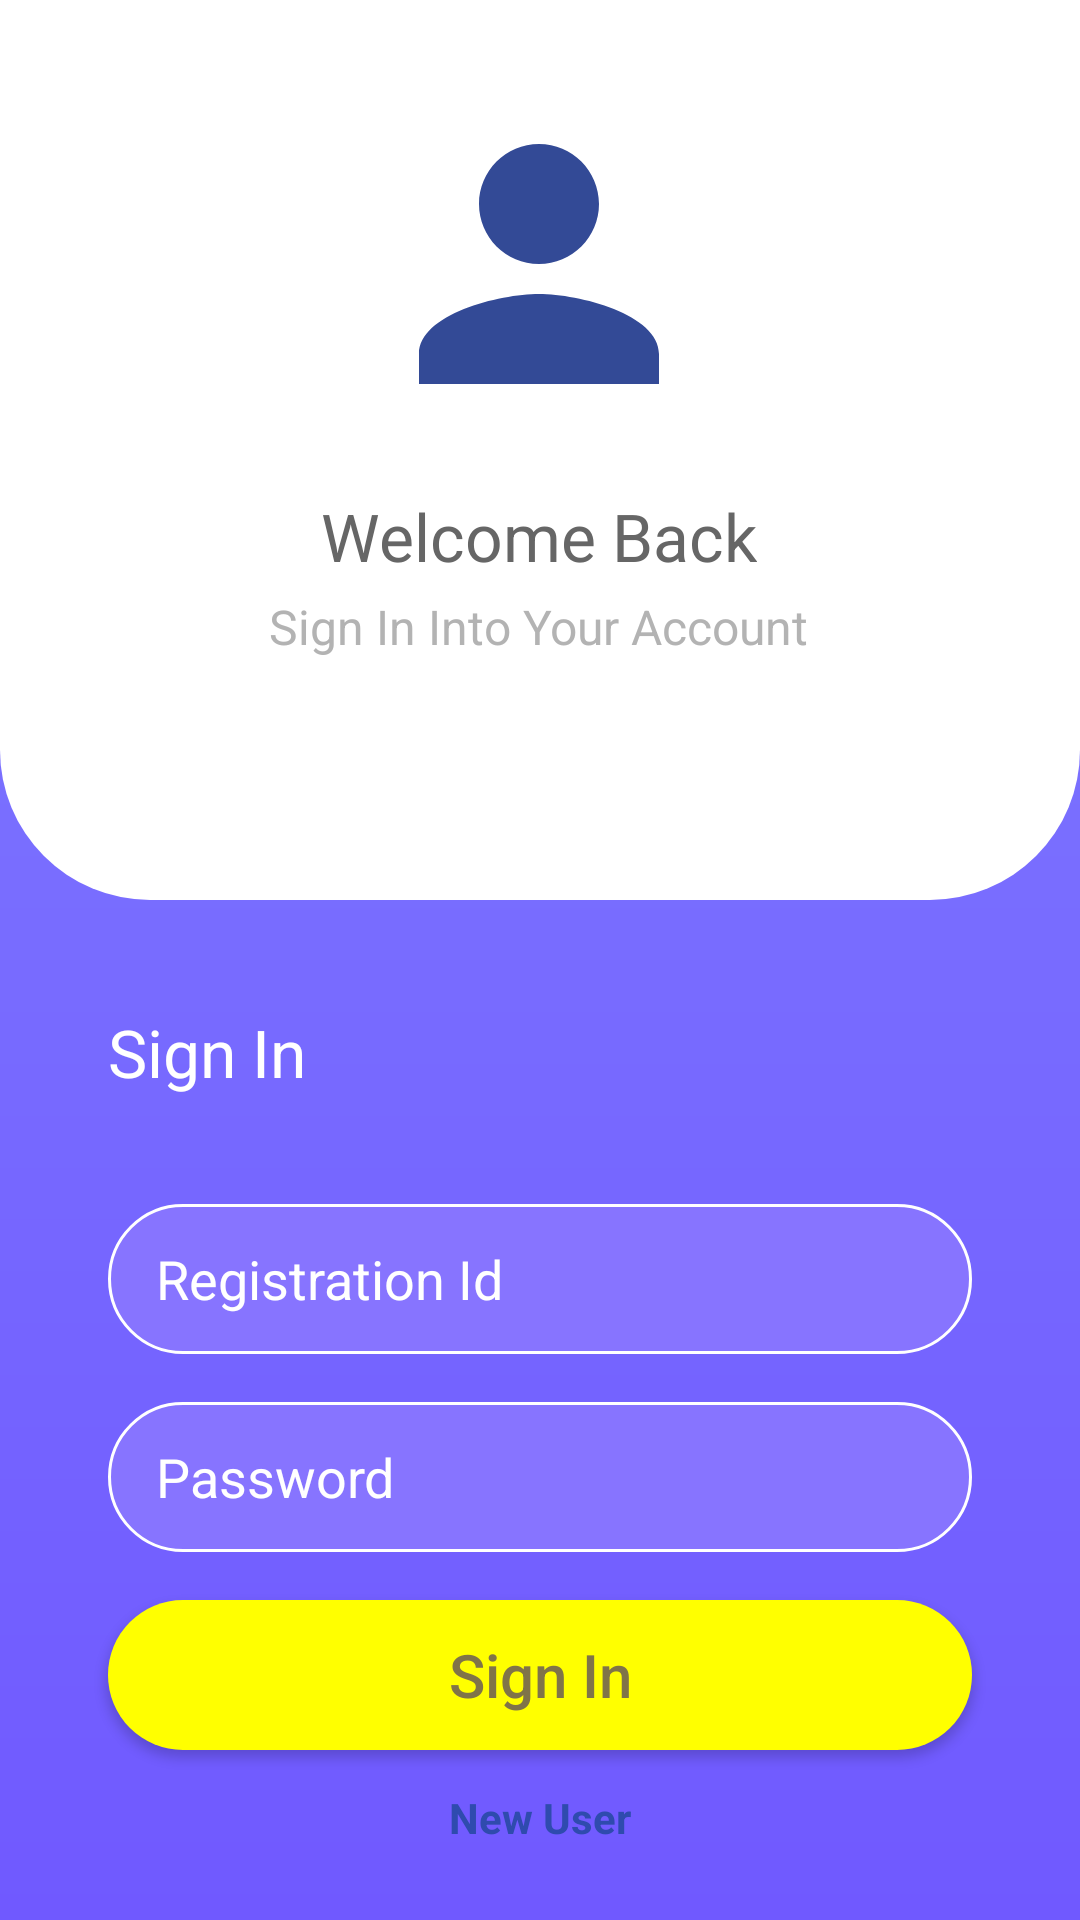

Locate icon controls on the screen. Image size 1080 × 1920, boxes as [x1,y1,x2,y2].
person: [419,144,659,384]
